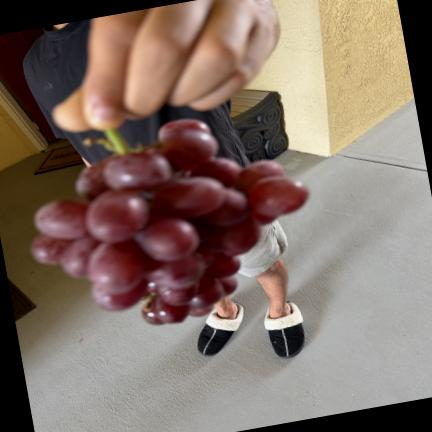grape_cluster: (31, 119, 308, 325)
